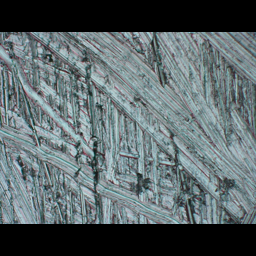d: (2, 32, 255, 222)
